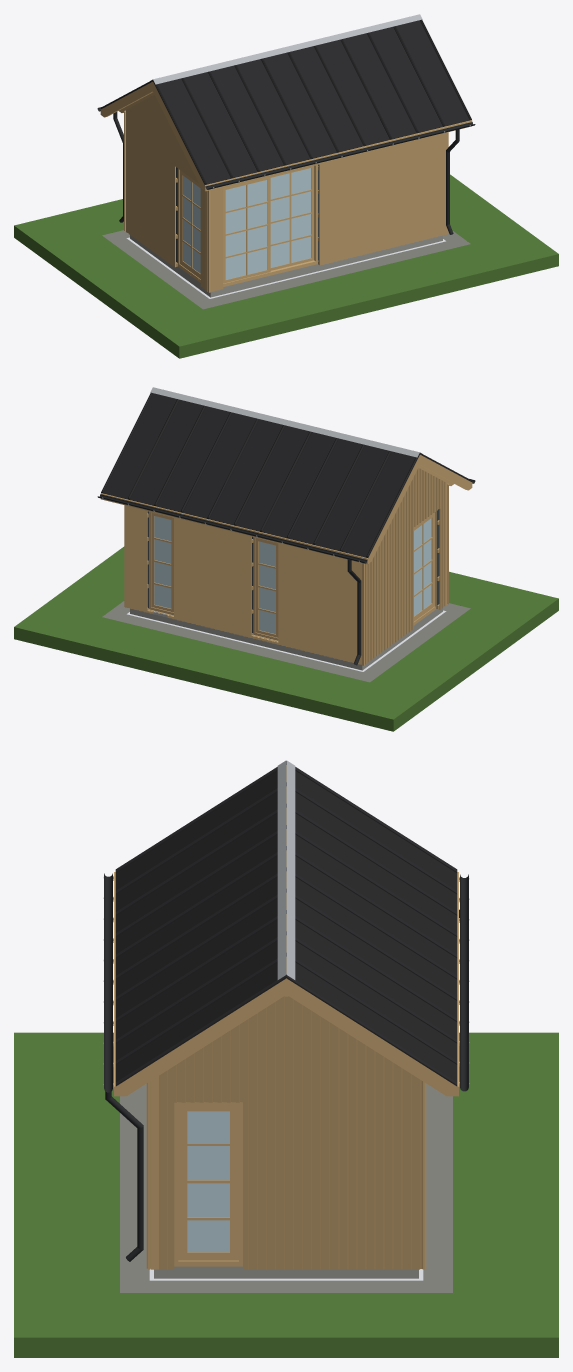
3 views of the same model, one above another, from view 1: azimuth 30°, elevation 25°; view 2: azimuth 150°, elevation 25°; view 3: azimuth 270°, elevation 25° (orthographic). The views are drawn at different scales.
Parts seen in each view (by area): view 1: b517, b116, b516, b153, b172, b2, b599, b475, b140, b110, b4, b375 (+44 smaller); view 2: b517, b117, b516, b2, b600, b453, b475, b444, b141, b111, b4, b332 (+46 smaller); view 3: b517, b116, b117, b516, b499, b113, b115, b2, b400, b405, b399, b401 (+50 smaller).
Boxes of the visible parts, x1=… form: b517: x1=14, y1=174, x2=558, y2=358; b116: x1=157, y1=20, x2=469, y2=184; b516: x1=102, y1=230, x2=470, y2=309; b153: x1=225, y1=180, x2=267, y2=279; b172: x1=270, y1=168, x2=311, y2=267; b2: x1=130, y1=235, x2=442, y2=297; b599: x1=153, y1=14, x2=422, y2=84; b475: x1=183, y1=175, x2=200, y2=273; b140: x1=205, y1=122, x2=475, y2=189; b110: x1=204, y1=120, x2=472, y2=191; b4: x1=126, y1=237, x2=445, y2=298; b375: x1=150, y1=96, x2=153, y2=250; b517: x1=14, y1=546, x2=558, y2=731; b117: x1=103, y1=393, x2=415, y2=557; b516: x1=102, y1=601, x2=470, y2=682; b2: x1=130, y1=608, x2=442, y2=670; b600: x1=150, y1=387, x2=419, y2=457; b453: x1=154, y1=516, x2=171, y2=608; b475: x1=414, y1=518, x2=431, y2=615; b444: x1=259, y1=541, x2=275, y2=634; b141: x1=97, y1=494, x2=367, y2=563; b111: x1=100, y1=493, x2=368, y2=564; b4: x1=127, y1=610, x2=446, y2=671; b332: x1=205, y1=525, x2=210, y2=627; b517: x1=14, y1=1032, x2=558, y2=1357; b116: x1=115, y1=771, x2=285, y2=1086; b117: x1=287, y1=771, x2=457, y2=1086; b516: x1=120, y1=1083, x2=452, y2=1292; b499: x1=187, y1=1111, x2=229, y2=1252; b113: x1=115, y1=978, x2=286, y2=1096; b115: x1=286, y1=979, x2=457, y2=1096; b2: x1=154, y1=1266, x2=418, y2=1278; b400: x1=285, y1=996, x2=293, y2=1269; b405: x1=330, y1=1022, x2=339, y2=1269; b399: x1=276, y1=996, x2=284, y2=1269; b401: x1=294, y1=1000, x2=302, y2=1269.
Bounding box in the file's own units: 8169 × 4220 × 6169.
